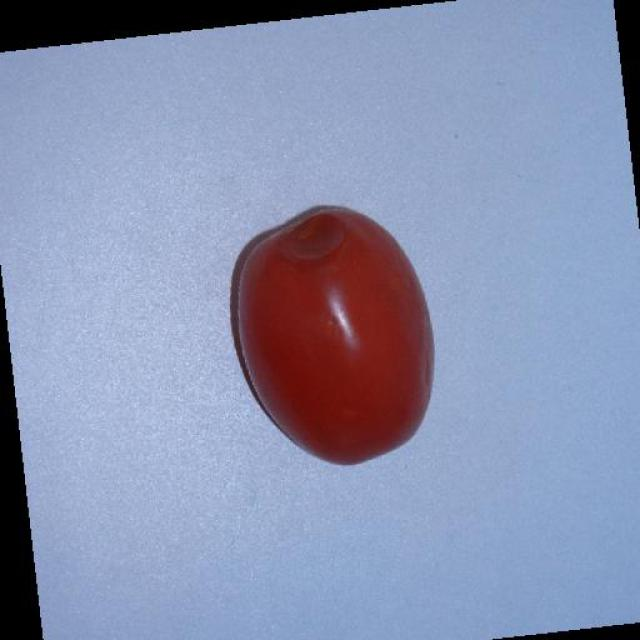Stale_tomato: (225, 212, 422, 408)
